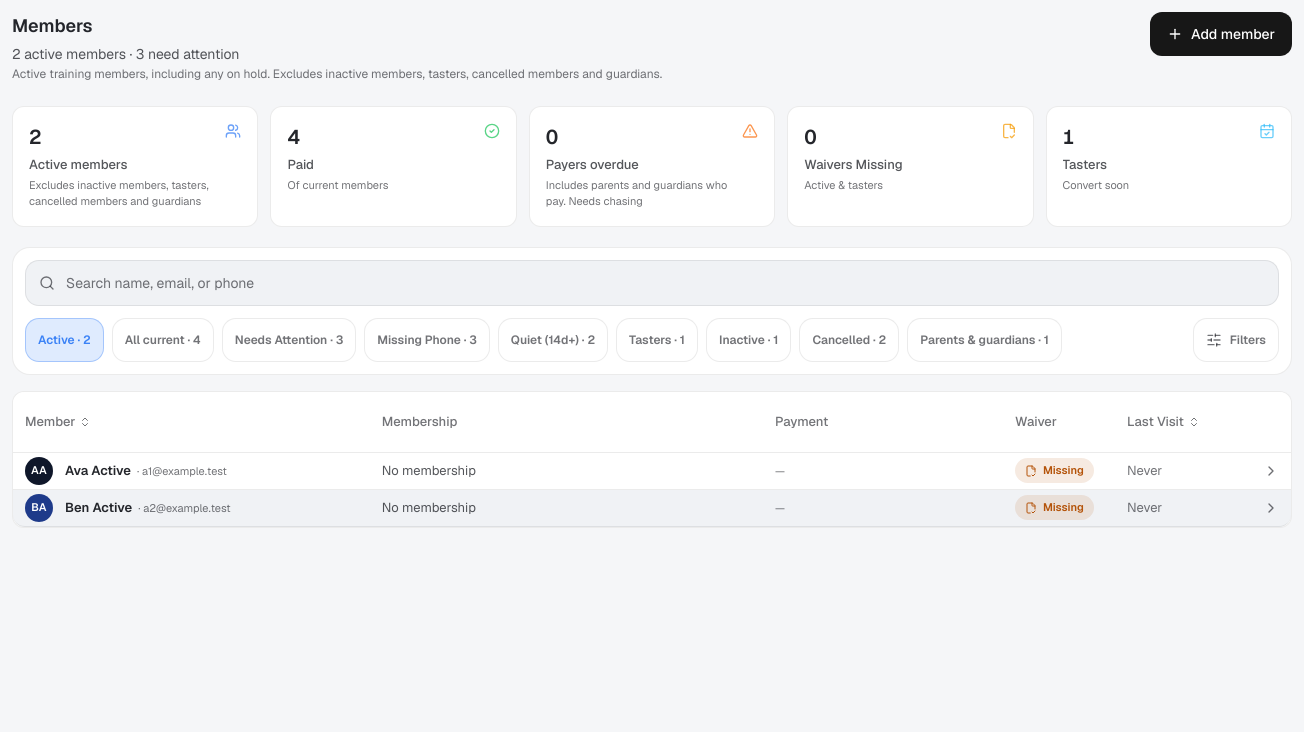
Test: search scope on Active › untouched landing view: a search looks at everyone and says so
Step 1. Type "cancelled" into the search field named "Search members" → (652, 282), box [25,260,1279,306]
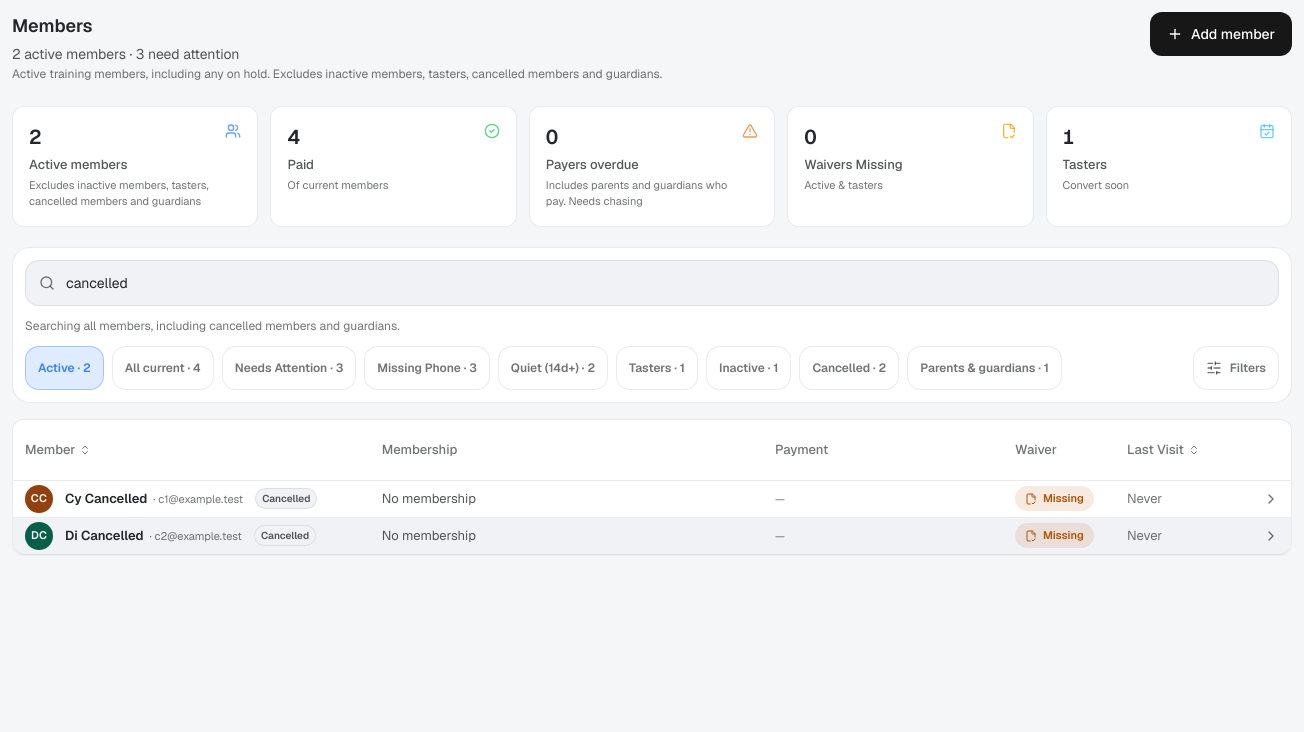
Now the message with test id "members-search-scope" shows "including cancelled members and guardians", box [25,318,400,334]
